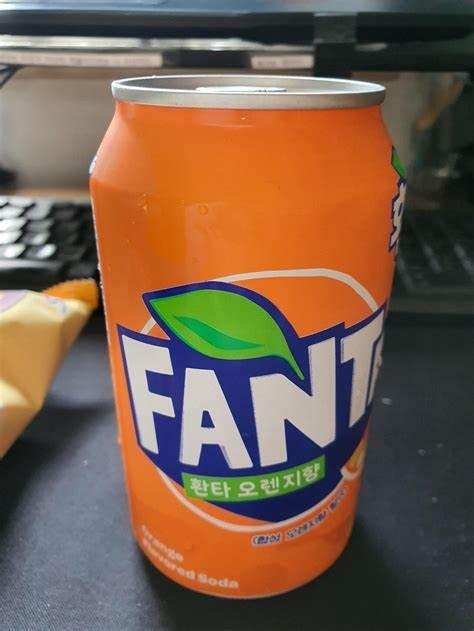metal: (90, 74, 406, 600)
